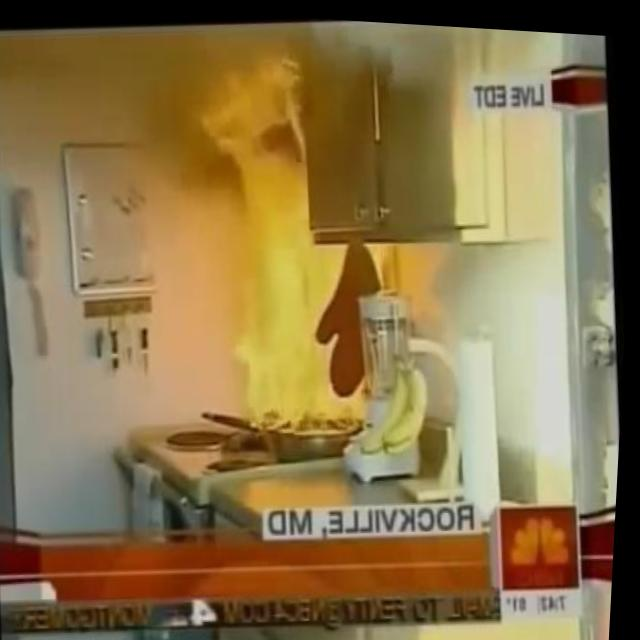fire: (225, 172, 384, 429)
